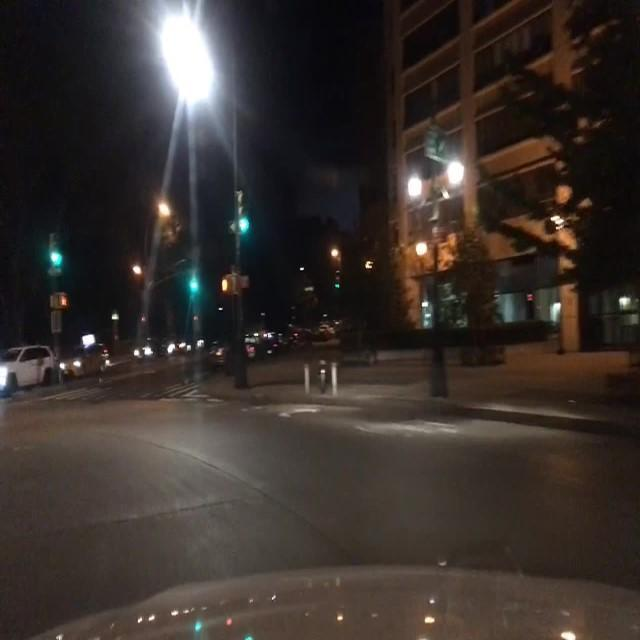normal: (0, 327, 75, 402)
